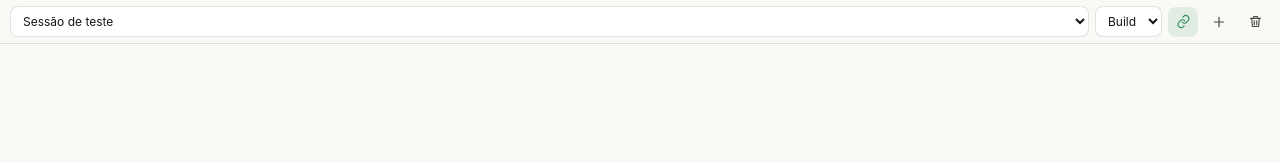
Test: sidepanel/SessionBar › abre as abas conectadas e oferece conectar outra
Click the button named "Mostrar 1 aba conectada": (1183, 22) [1168,6,1198,36]
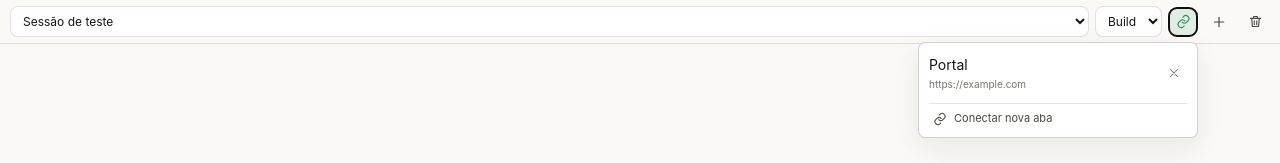
Now the text "Portal" is shown, box [929,56,968,72]
Now the text "https://example.com" is shown, box [929,77,1026,91]
Now the button "Conectar nova aba" is shown, box [929,103,1187,129]
